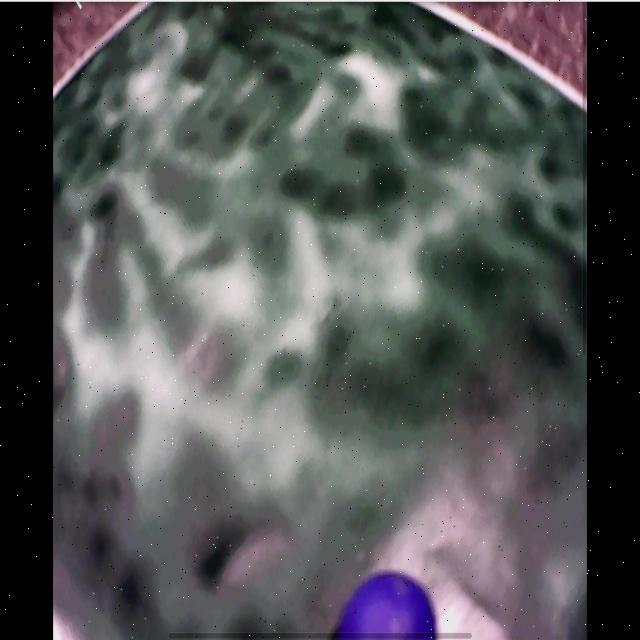ball: (343, 575, 434, 640)
